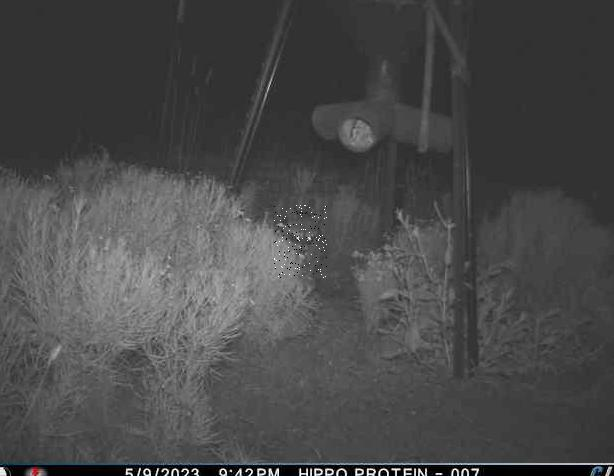Raccoon: (275, 204, 328, 278)
